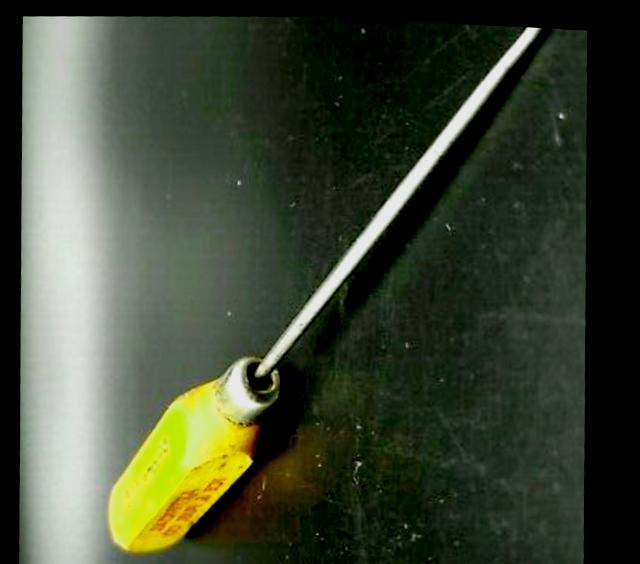ice pick: (89, 5, 571, 564)
